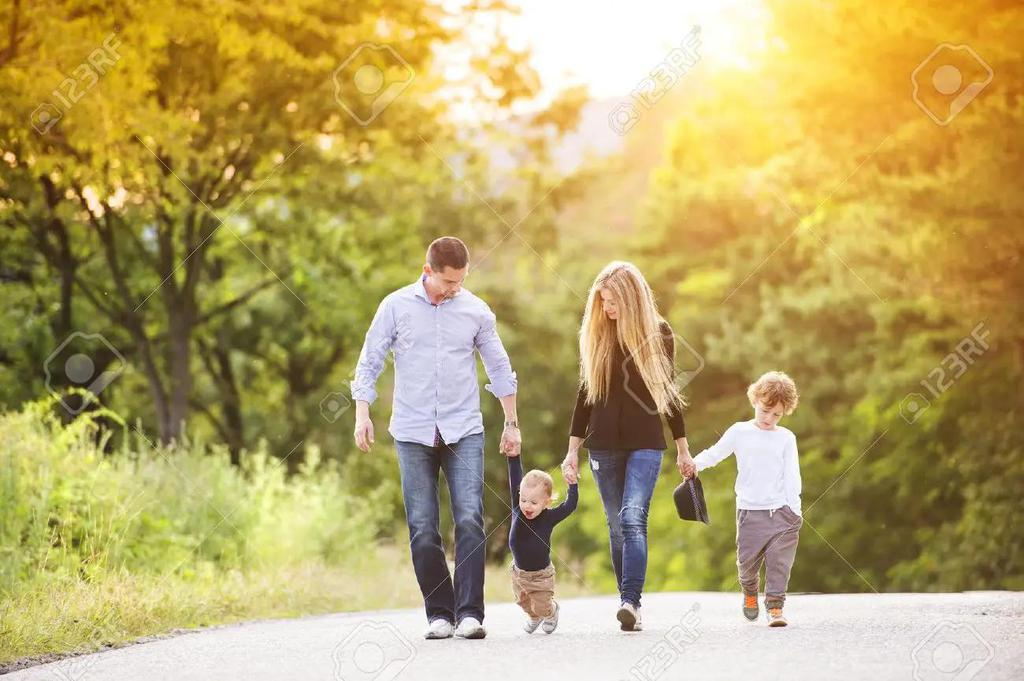child: (685, 368, 820, 630), (494, 434, 587, 636)
